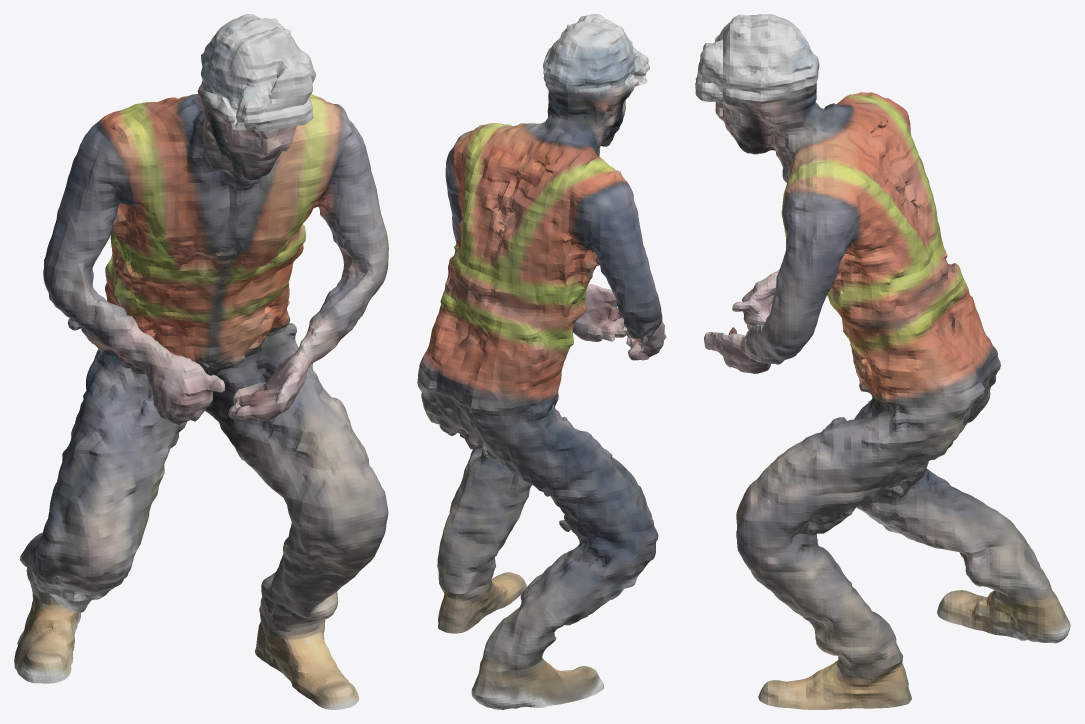
File: standup_9.glb
3 renders of one model, left to right at view 1: azimuth 30°, elevation 25°; view 2: azimuth 150°, elevation 25°; view 3: azimuth 270°, elevation 25°, orthographic. The views are drawn at different scales.
Parts seen in each view (by area): view 1: world; view 2: world; view 3: world.
Part boxes in pixels (x1,y1,x2,y2): world: (14, 14, 388, 709); world: (417, 14, 666, 709); world: (695, 14, 1070, 709).
Bounding box in the file's own units: 0.7028 × 1.59 × 0.8502.
